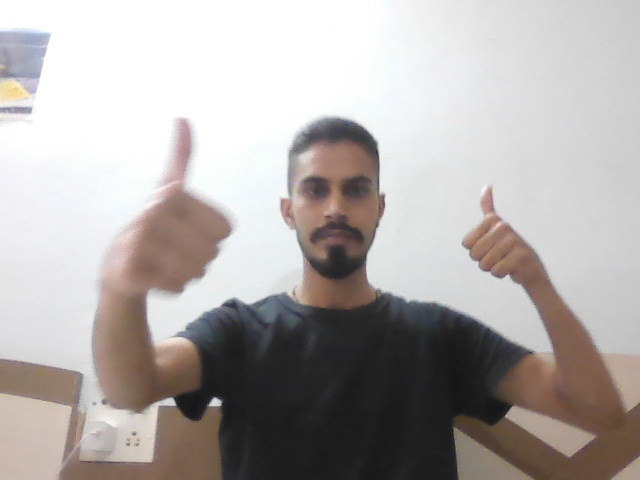ThumbsUp: (449, 181, 542, 284)
